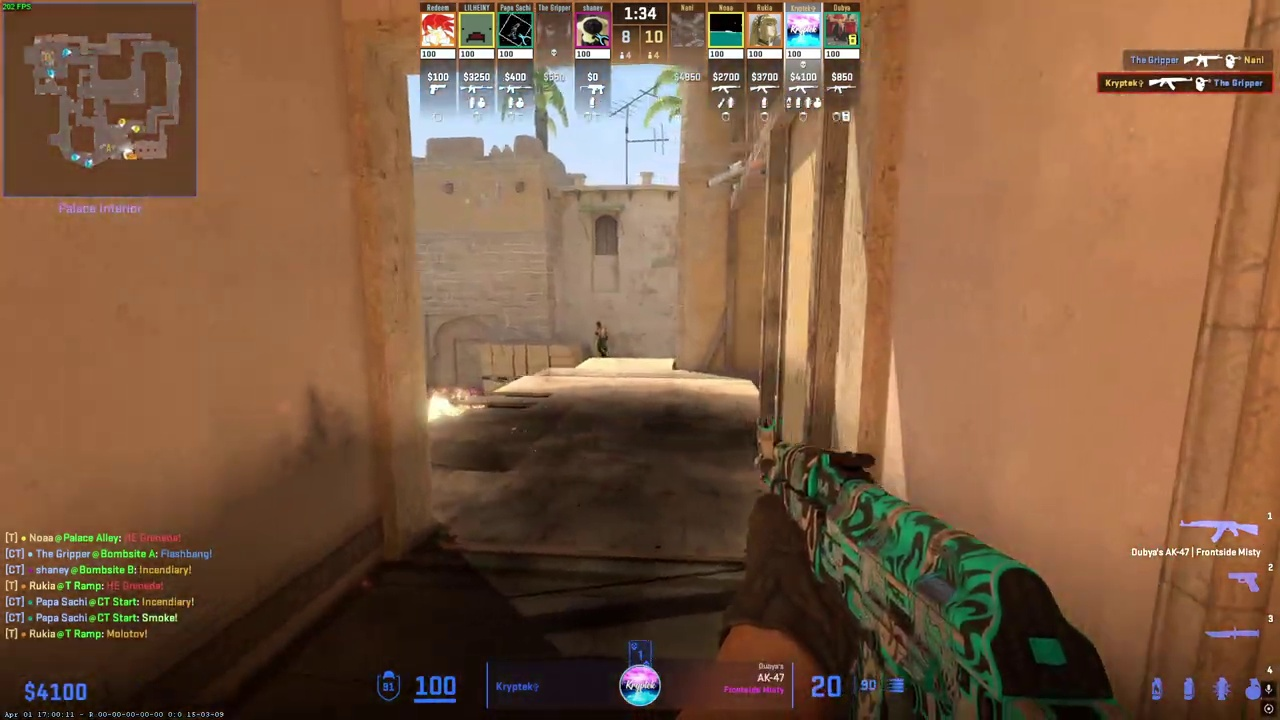Terrorist: (595, 321, 609, 358)
